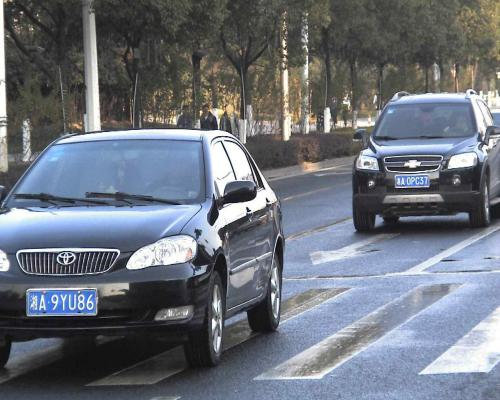Carplate: (18, 283, 106, 329), (390, 170, 434, 191)
